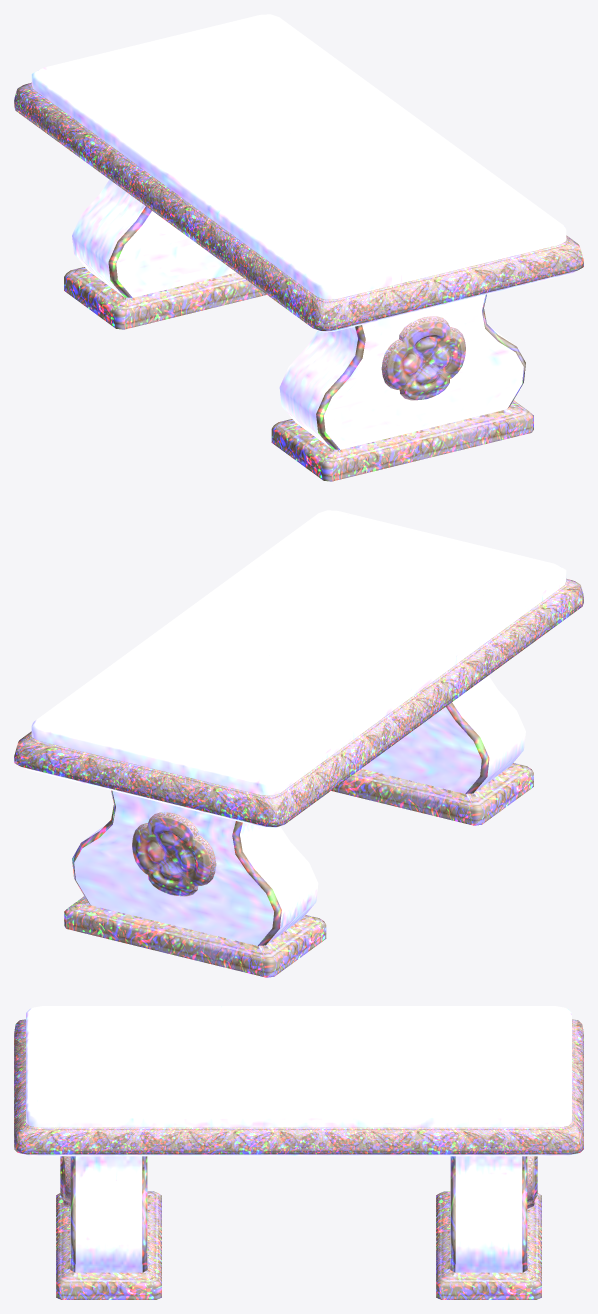
Rendered from bench_SM.fbx.
3 views of the same model, one above another, from view 1: azimuth 30°, elevation 25°; view 2: azimuth 150°, elevation 25°; view 3: azimuth 270°, elevation 25° (orthographic). The views are drawn at different scales.
Parts seen in each view (by area): view 1: bench_SM_LOD0; view 2: bench_SM_LOD0; view 3: bench_SM_LOD0.
Boxes of the visible parts, x1,y1,x2,y2 form: bench_SM_LOD0: (14, 14, 583, 481); bench_SM_LOD0: (14, 510, 583, 977); bench_SM_LOD0: (14, 1006, 583, 1299).
Bounding box in the file's own units: 96 × 192 × 71.81.
Materials: 2 (1 with a texture image).
